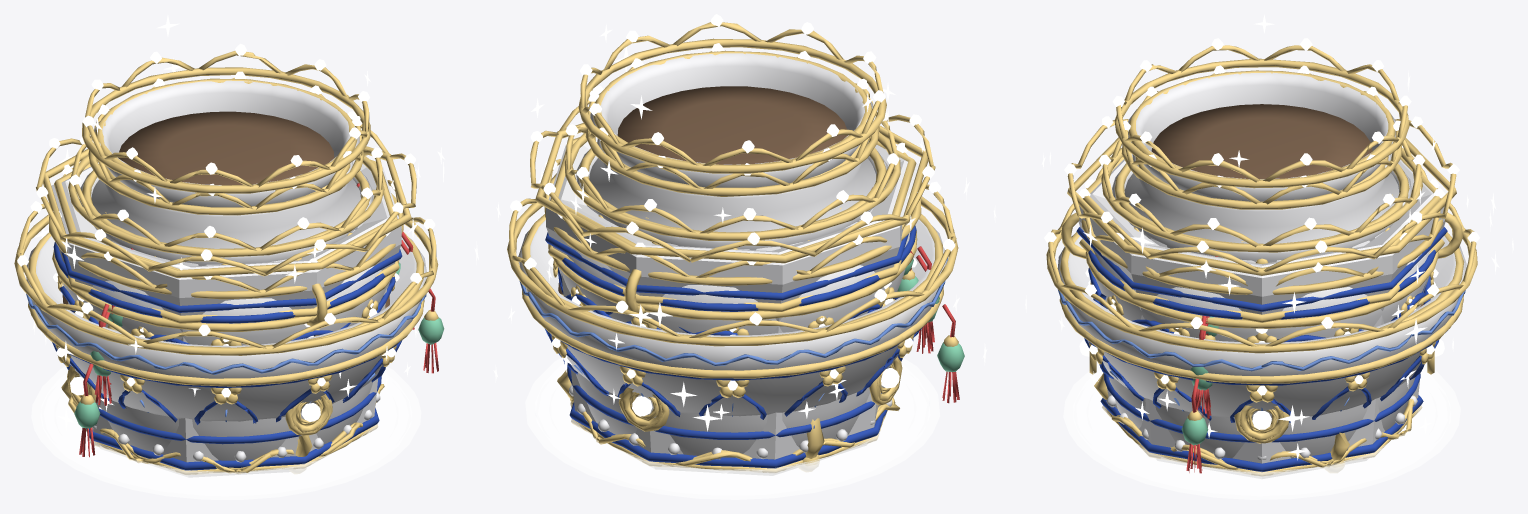
Rendered from chau-su-lam.glb.
3 views of the same model, side by side, from view 1: azimuth 30°, elevation 25°; view 2: azimuth 150°, elevation 25°; view 3: azimuth 270°, elevation 25° (orthographic). The views are drawn at different scales.
Parts seen in each view (by area): view 1: ChauSL_2_Than, ChauSL_5_Lv6, ChauSL_4_Lv6, ChauSL_5_Than, ChauSL_6_Lv6, ChauSL_2_Lv6, ChauSL_1_Than, ChauSL_1_Dat, ChauSL_4_Than, ChauSL_1_Lv6, ChauSL_3_Than, ChauSL_6_Than (+8 smaller); view 2: ChauSL_2_Than, ChauSL_5_Lv6, ChauSL_4_Lv6, ChauSL_5_Than, ChauSL_6_Lv6, ChauSL_2_Lv6, ChauSL_1_Than, ChauSL_1_Dat, ChauSL_4_Than, ChauSL_1_Lv6, ChauSL_3_Than, ChauSL_6_Than (+7 smaller); view 3: ChauSL_5_Lv6, ChauSL_2_Than, ChauSL_5_Than, ChauSL_4_Lv6, ChauSL_6_Lv6, ChauSL_2_Lv6, ChauSL_1_Than, ChauSL_1_Dat, ChauSL_4_Than, ChauSL_1_Lv6, ChauSL_3_Than, ChauSL_6_Than (+8 smaller).
Part boxes in pixels (x1,y1,x2,y2): ChauSL_2_Than: (26,232,427,424); ChauSL_5_Lv6: (31,111,444,499); ChauSL_4_Lv6: (32,137,411,495); ChauSL_5_Than: (51,159,402,476); ChauSL_6_Lv6: (41,164,418,489); ChauSL_2_Lv6: (14,147,444,454); ChauSL_1_Than: (94,78,359,207); ChauSL_1_Dat: (118,111,334,185); ChauSL_4_Than: (68,164,381,473); ChauSL_1_Lv6: (45,43,377,457); ChauSL_3_Than: (91,161,363,341); ChauSL_6_Than: (53,242,395,473); ChauSL_2_Than: (518,214,947,419); ChauSL_5_Lv6: (508,47,969,499); ChauSL_4_Lv6: (535,111,929,495); ChauSL_5_Than: (545,136,918,475); ChauSL_6_Lv6: (538,66,959,488); ChauSL_2_Lv6: (474,98,996,431); ChauSL_1_Than: (590,50,873,187); ChauSL_1_Dat: (617,86,847,164); ChauSL_4_Than: (567,142,898,472); ChauSL_1_Lv6: (577,14,924,456); ChauSL_3_Than: (558,138,899,333); ChauSL_6_Than: (557,225,916,471); ChauSL_5_Lv6: (1025,76,1496,499); ChauSL_2_Than: (1057,231,1466,422); ChauSL_5_Than: (1076,153,1447,478); ChauSL_4_Lv6: (1073,139,1453,495); ChauSL_6_Lv6: (1049,145,1468,489); ChauSL_2_Lv6: (1044,151,1513,450); ChauSL_1_Than: (1128,70,1395,201); ChauSL_1_Dat: (1151,104,1372,179); ChauSL_4_Than: (1093,158,1430,470); ChauSL_1_Lv6: (1088,38,1435,446); ChauSL_3_Than: (1061,154,1463,339); ChauSL_6_Than: (1088,249,1436,472).
Bounding box in the file's own units: 1.39 × 1.17 × 1.43.
